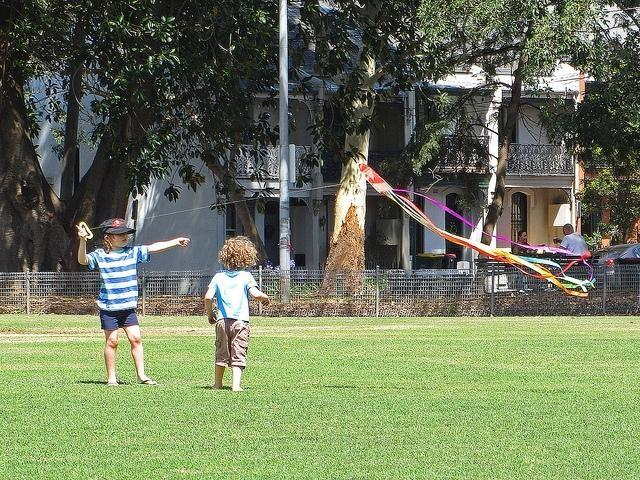car: (589, 242, 640, 264)
